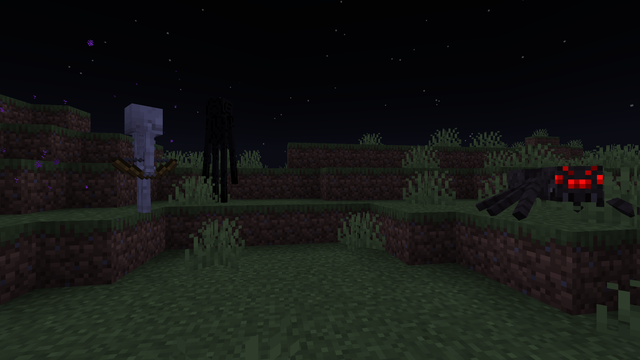araignees: (481, 158, 625, 225)
endermens: (205, 93, 232, 202)
squelettes: (116, 104, 165, 214)
